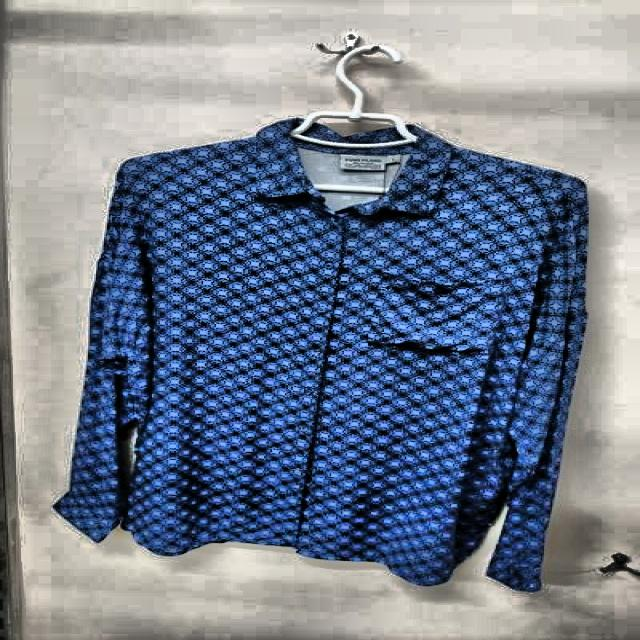clothes: (58, 113, 584, 595)
